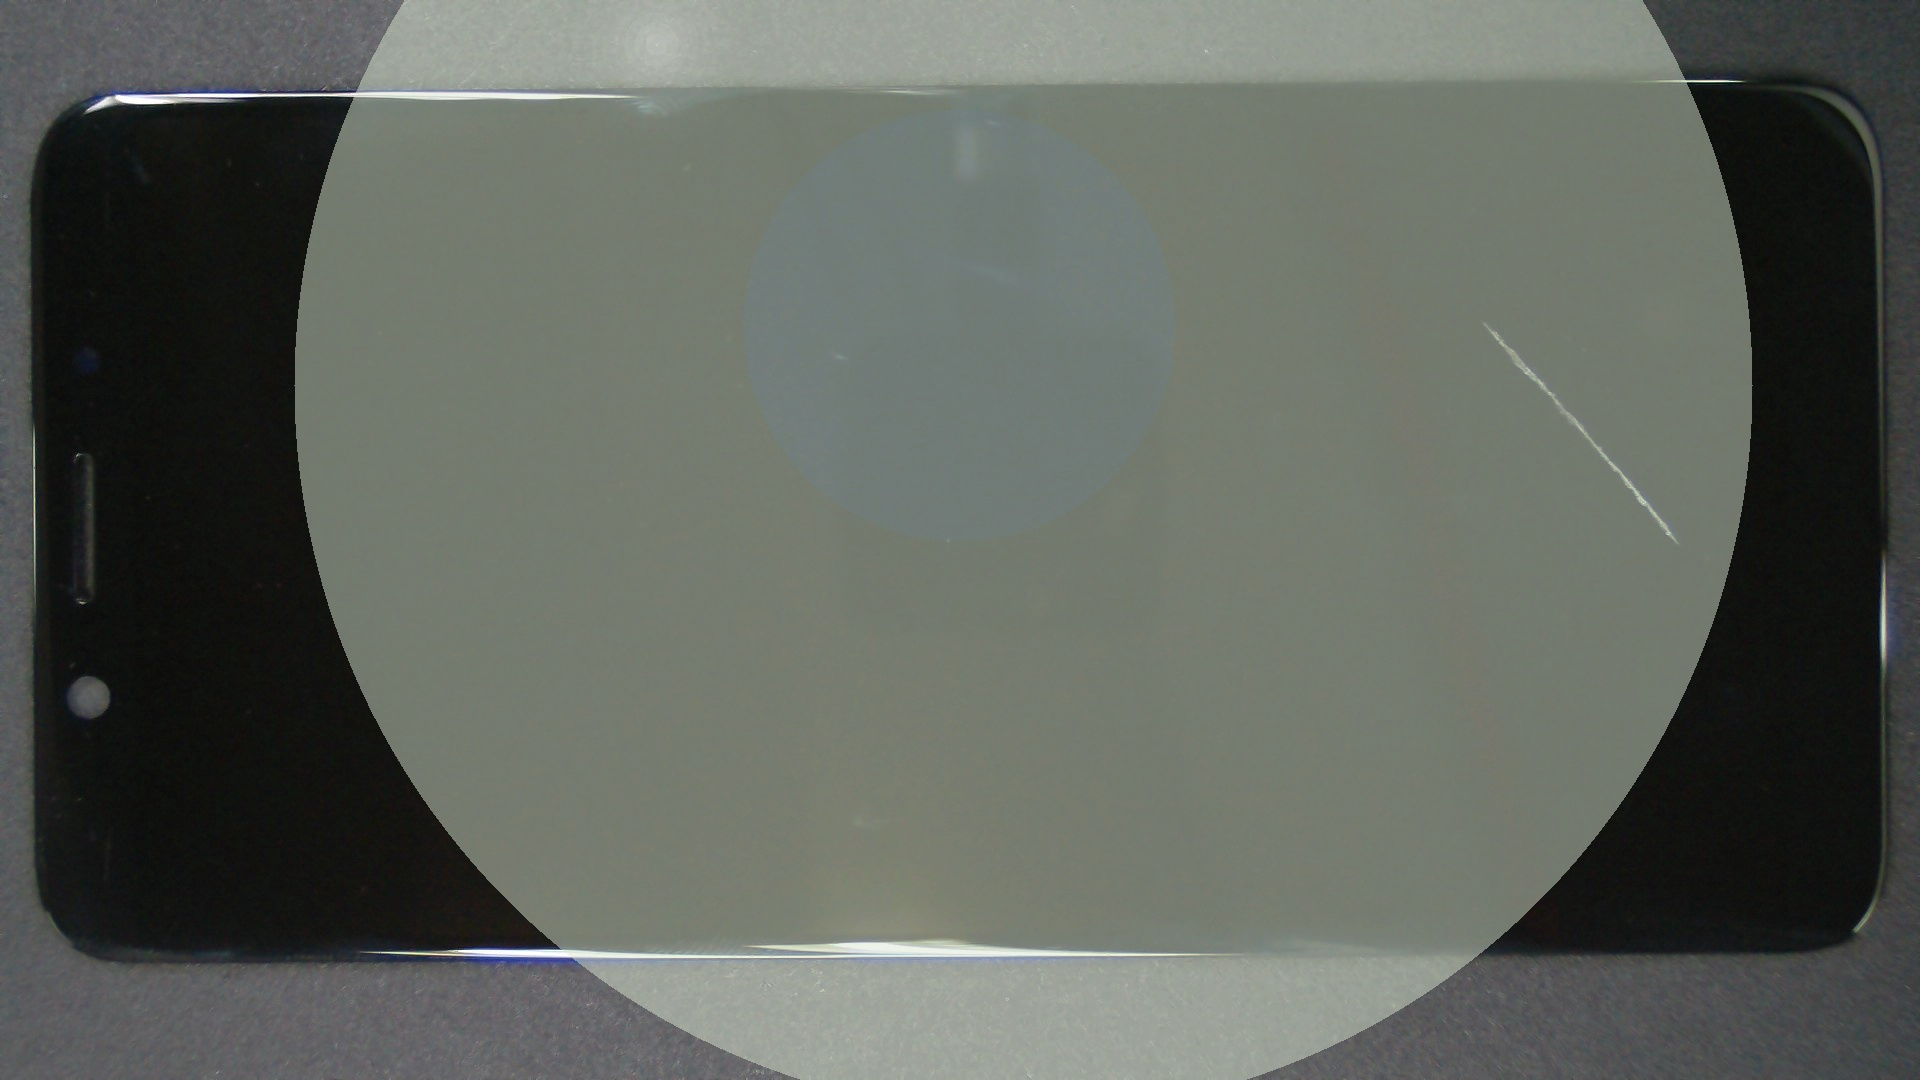oil: (741, 160, 1920, 484)
